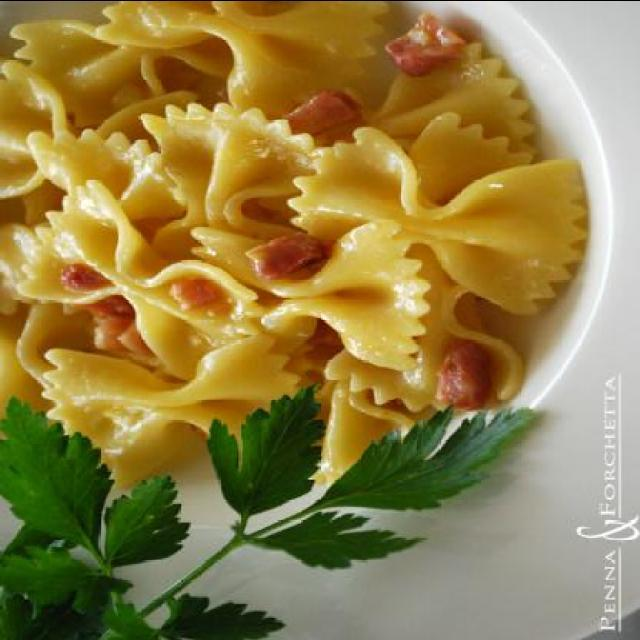Pasta with carbonara sauce: (48, 19, 572, 486)
